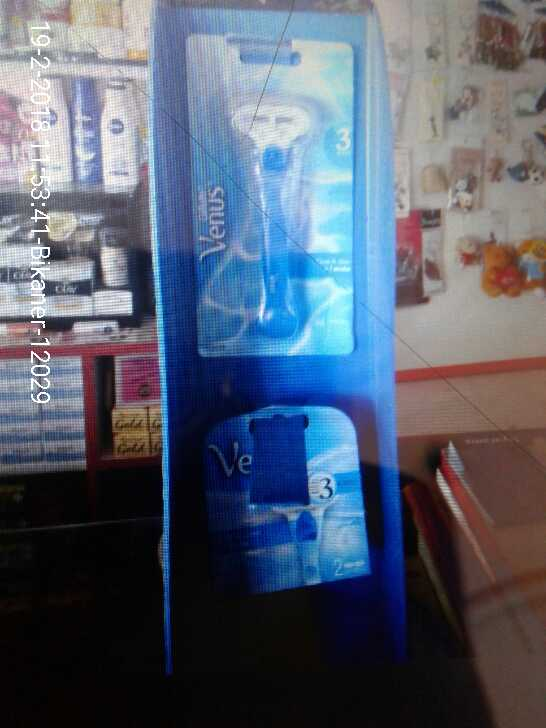venus: (173, 40, 361, 362), (202, 401, 374, 593)
